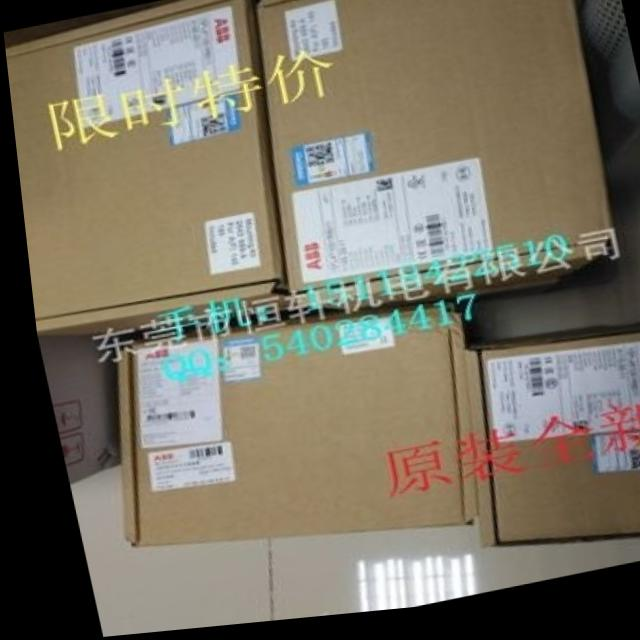box: (250, 0, 610, 318), (4, 0, 286, 340), (105, 312, 466, 548), (458, 334, 640, 554), (29, 334, 107, 484)
